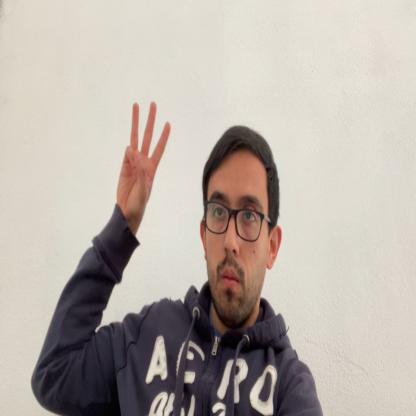W: (116, 100, 170, 230)
